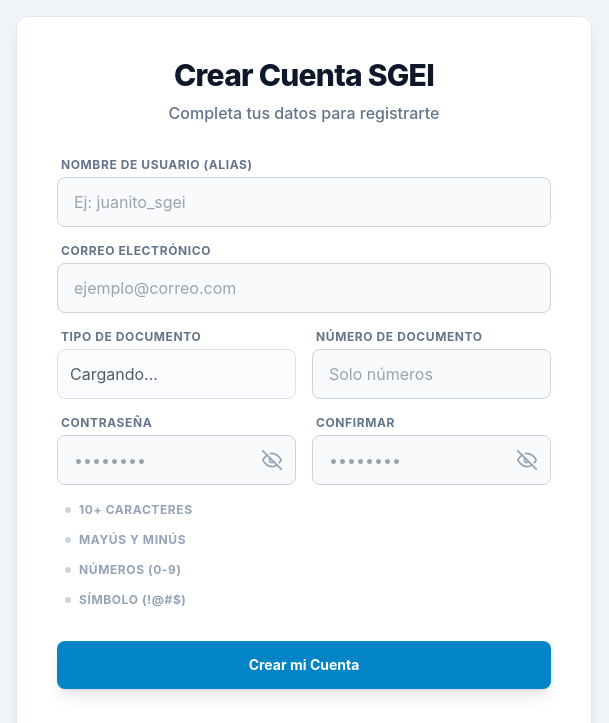
Register Component › debe mostrar errores de validación del backend
Type "testuser" into the field with placeholder "Ej: juanito_sgei".
click(304, 202); type("testuser")  # box [57,177,551,227]
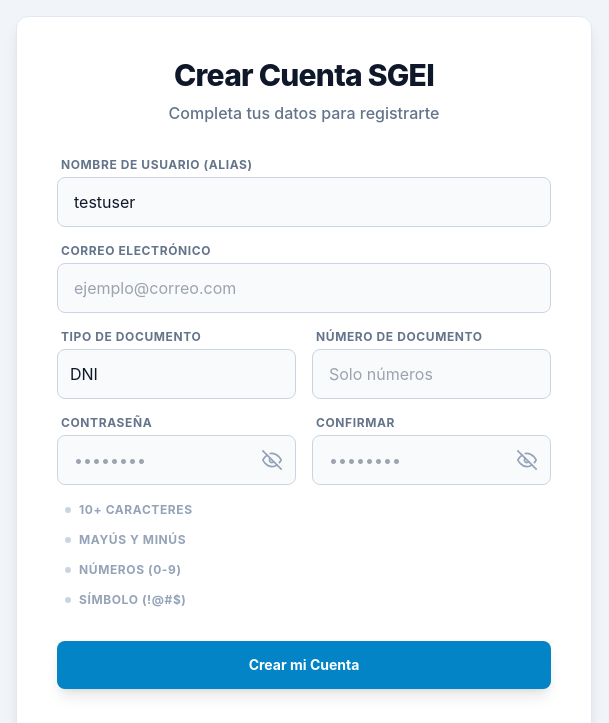
Type "test@example.com" into the field with placeholder "ejemplo@correo.com".
click(304, 288); type("test@example.com")  # box [57,263,551,313]
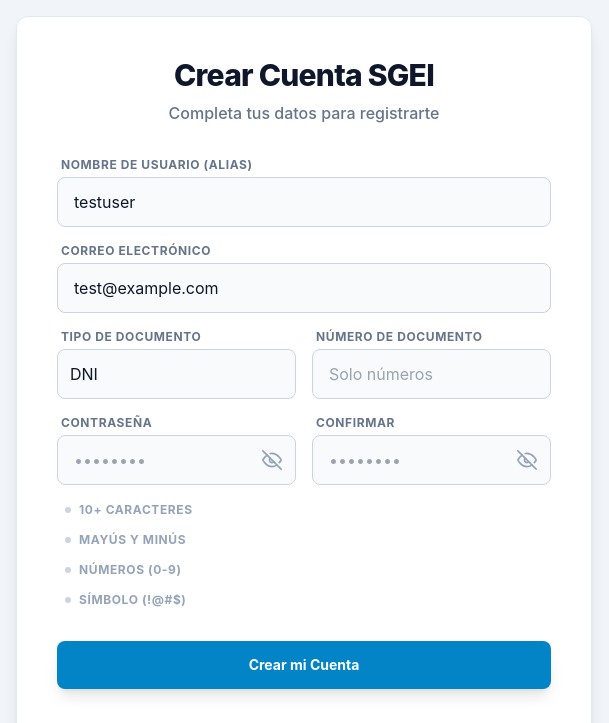
Type "12345678" into the field with placeholder "Solo números".
click(432, 374); type("12345678")  # box [312,349,551,399]
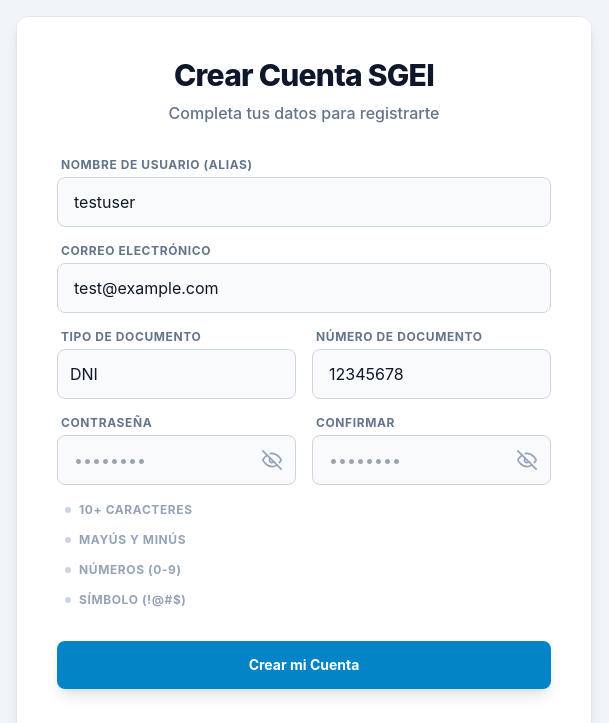
Type "short" into the password field with placeholder "••••••••" below "Contraseña".
click(176, 460); type("short")  # box [57,435,296,485]
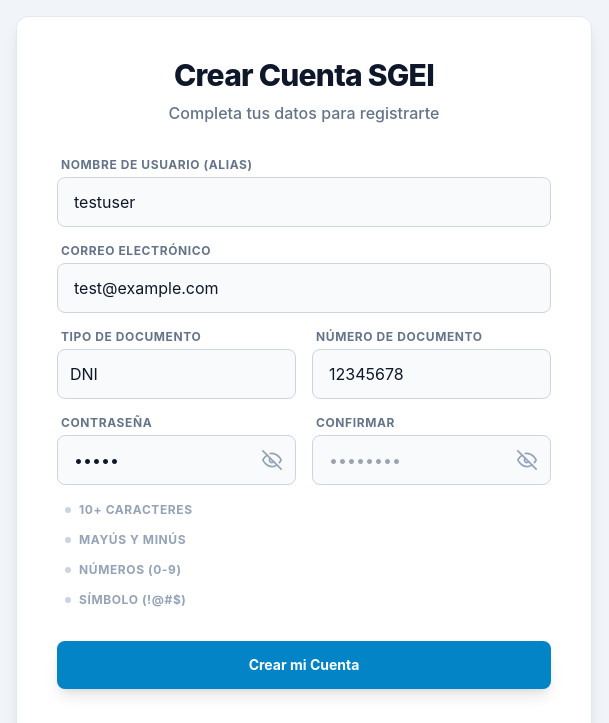
Type "short" into the password field with placeholder "••••••••".
click(432, 460); type("short")  # box [312,435,551,485]
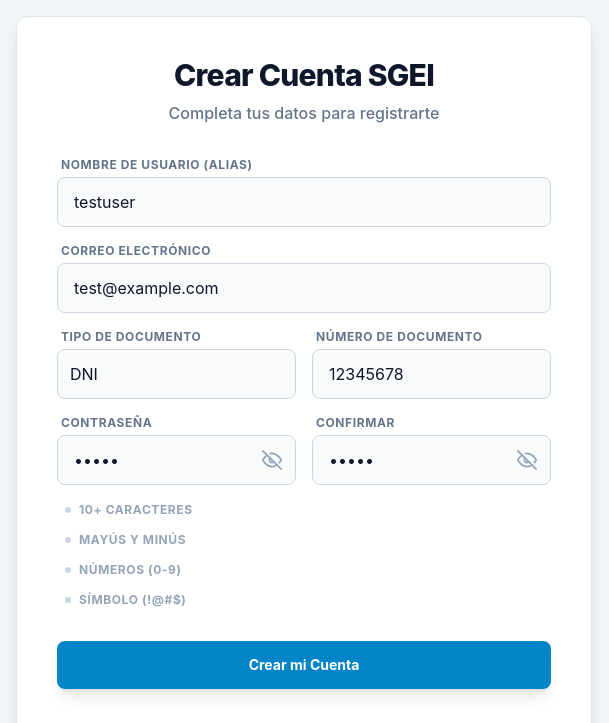
Click the button "Crear mi Cuenta".
click(304, 665)  # box [57,641,551,689]
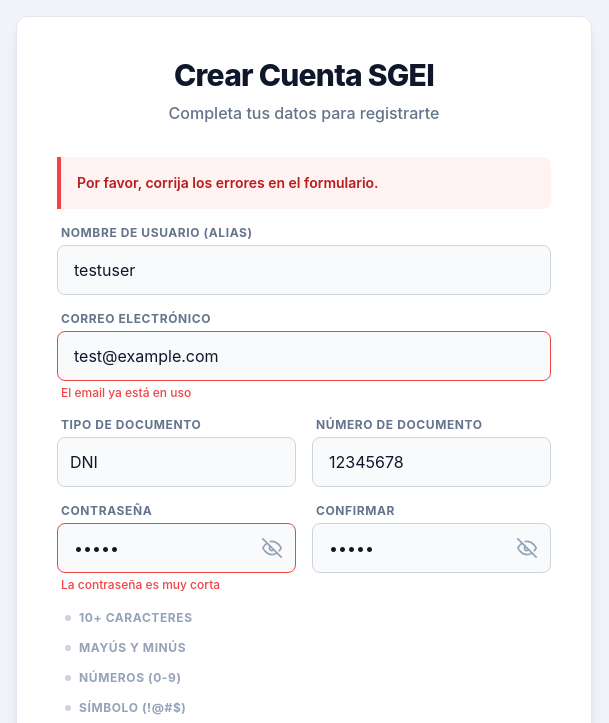
Check: the text "El email ya está en uso" is shown, box [61,385,191,400]
Check: the text "La contraseña es muy corta" is shown, box [61,577,220,592]
